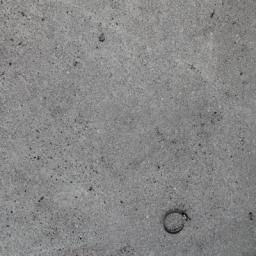FOD: (160, 207, 193, 236)
